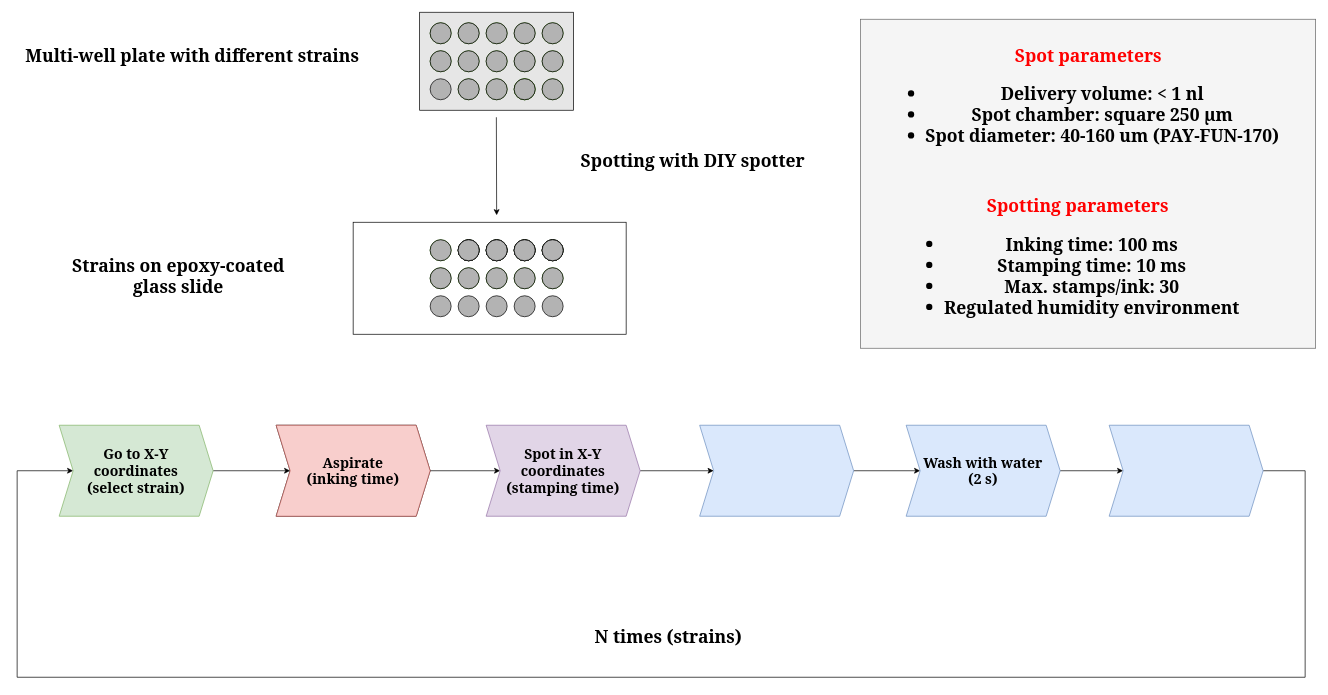
Some shapes in this 1328 by 695 pixel diagram are drawn without their labels. The box of each missing label's shape, as (x1, y1, x2, y2) in pixels:
Pin drying: (1108, 425, 1263, 516)
Wash with 70% ethanol (2 s): (699, 425, 854, 516)
